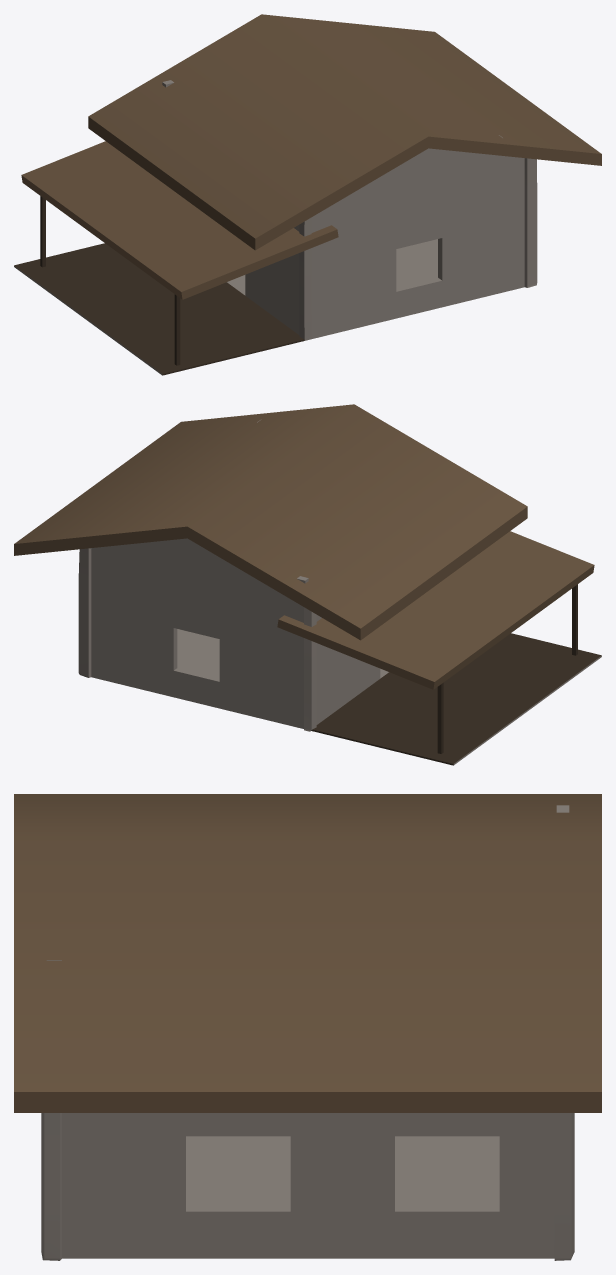
The model's file is Street House 3.fbx.
3 renders of one model, top to bottom at view 1: azimuth 30°, elevation 25°; view 2: azimuth 150°, elevation 25°; view 3: azimuth 270°, elevation 25°, orthographic. The views are drawn at different scales.
Visible parts, largest first — view 1: House_3; view 2: House_3; view 3: House_3.
Part boxes in pixels (x1=…): House_3: x1=14, y1=14, x2=601, y2=375; House_3: x1=14, y1=404, x2=601, y2=765; House_3: x1=14, y1=794, x2=601, y2=1260.
Bounding box in the file's own units: 60.55 × 24.64 × 40.71.
